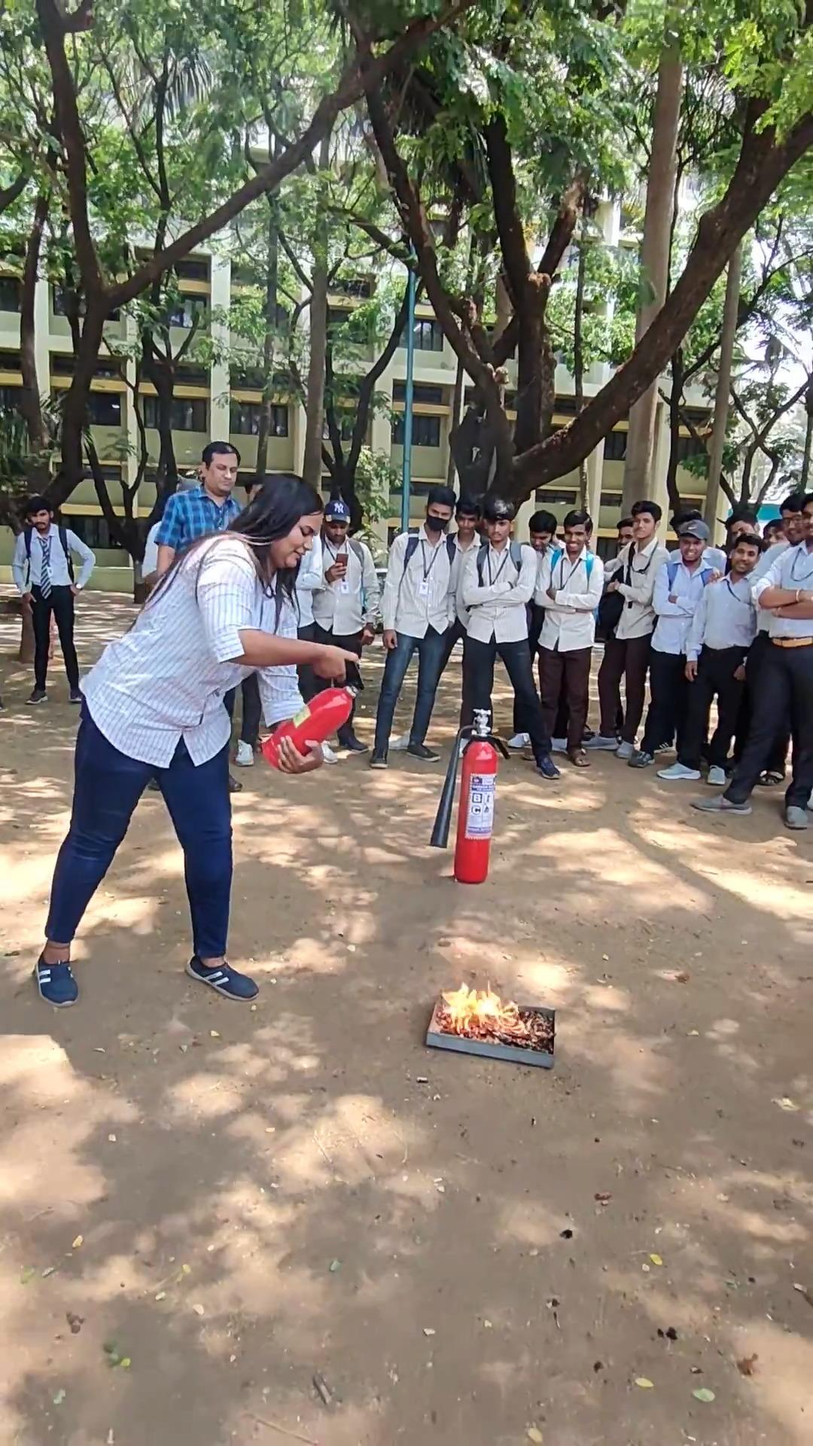FireExtinguisher: (261, 656, 373, 789), (434, 716, 509, 887)
